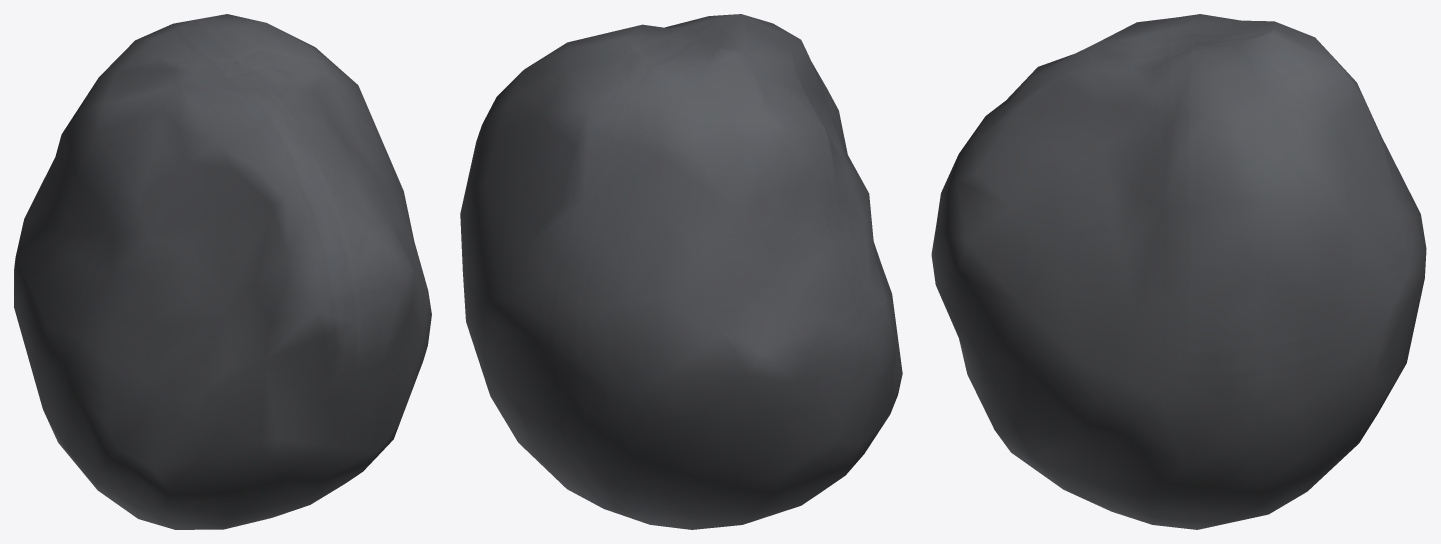
Rendered from stage3_rock.fbx.
3 renders of one model, left to right at view 1: azimuth 30°, elevation 25°; view 2: azimuth 150°, elevation 25°; view 3: azimuth 270°, elevation 25°, orthographic. The views are drawn at different scales.
Visible parts, largest first — view 1: stage3_rock; view 2: stage3_rock; view 3: stage3_rock.
Part boxes in pixels (box(x1,y1,x2,y2)): stage3_rock: box(14, 14, 431, 529); stage3_rock: box(460, 14, 902, 529); stage3_rock: box(931, 14, 1426, 529).
Size of the model in its own units: 81.57 by 90.87 by 97.88.
